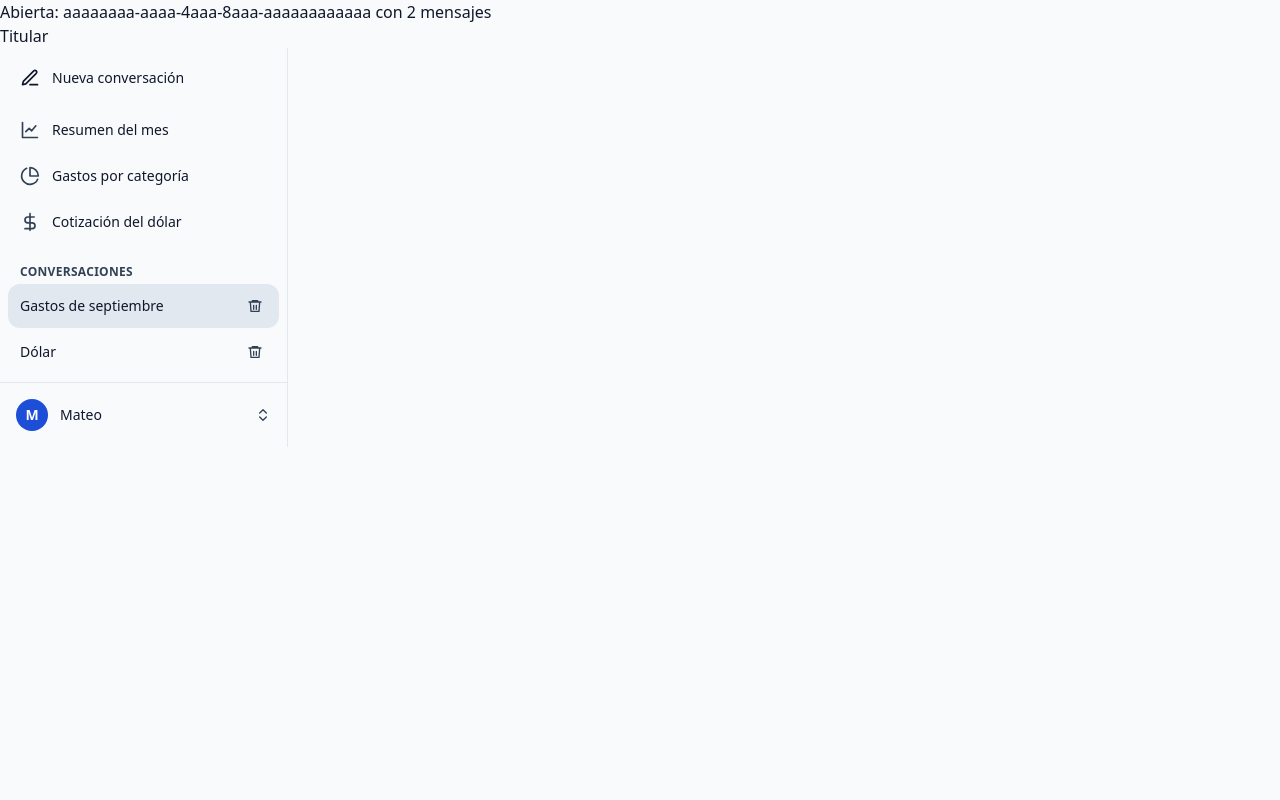
it: borrar una conversación (con «Deshacer») › cancelar el diálogo no borra nada ni muestra el aviso
Click the button named "Borrar la conversación «Dólar»" at [255, 352], box [233, 330, 277, 374]
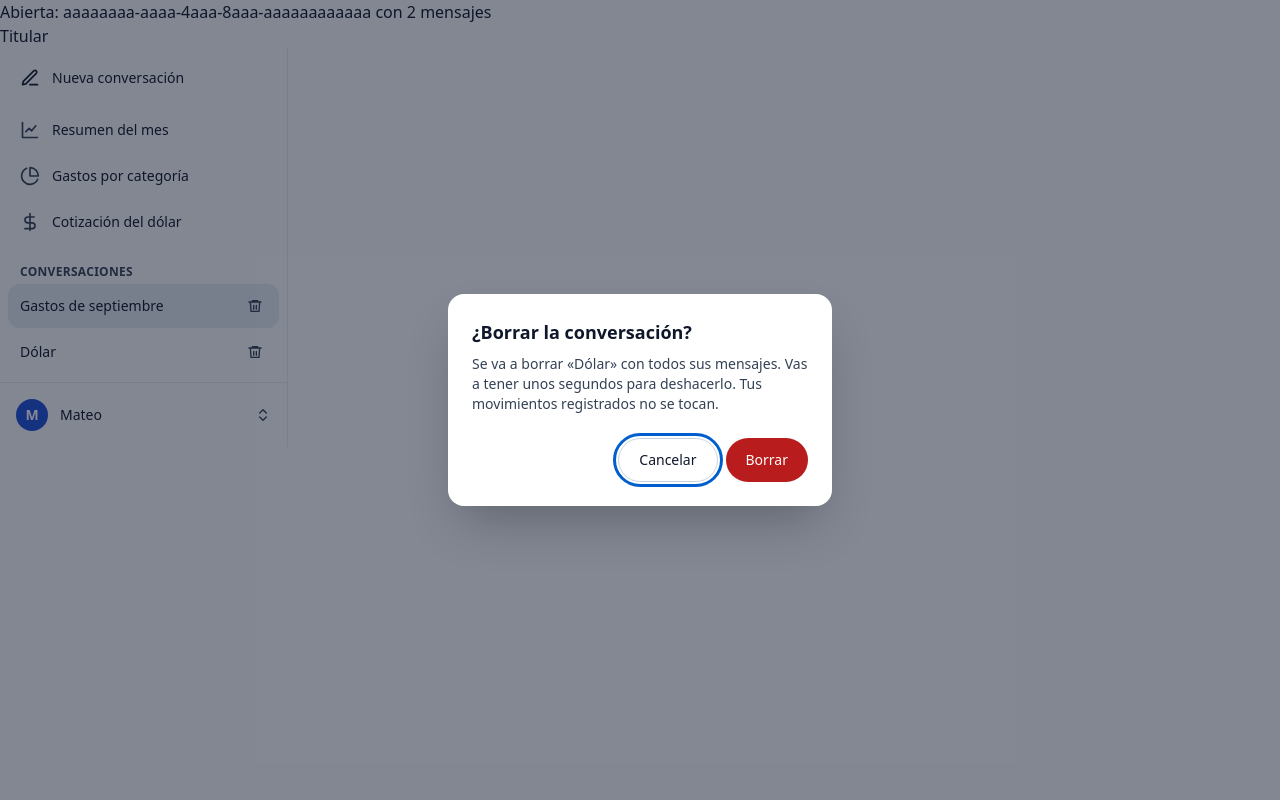
Click the button "Cancelar" at [668, 460], box [618, 438, 718, 482]
Wait 10000 ms
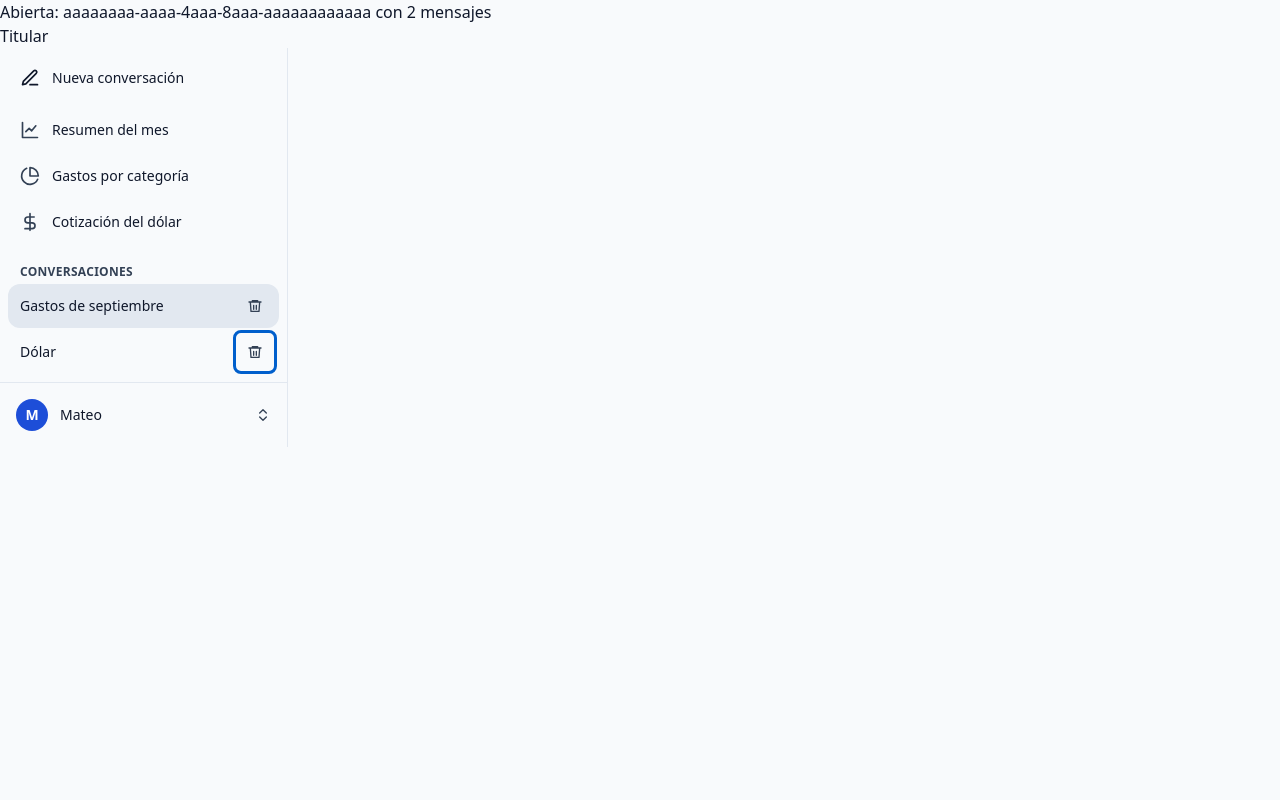
Expected: the dialog is gone
Expected: the text "Deshacer" is gone
